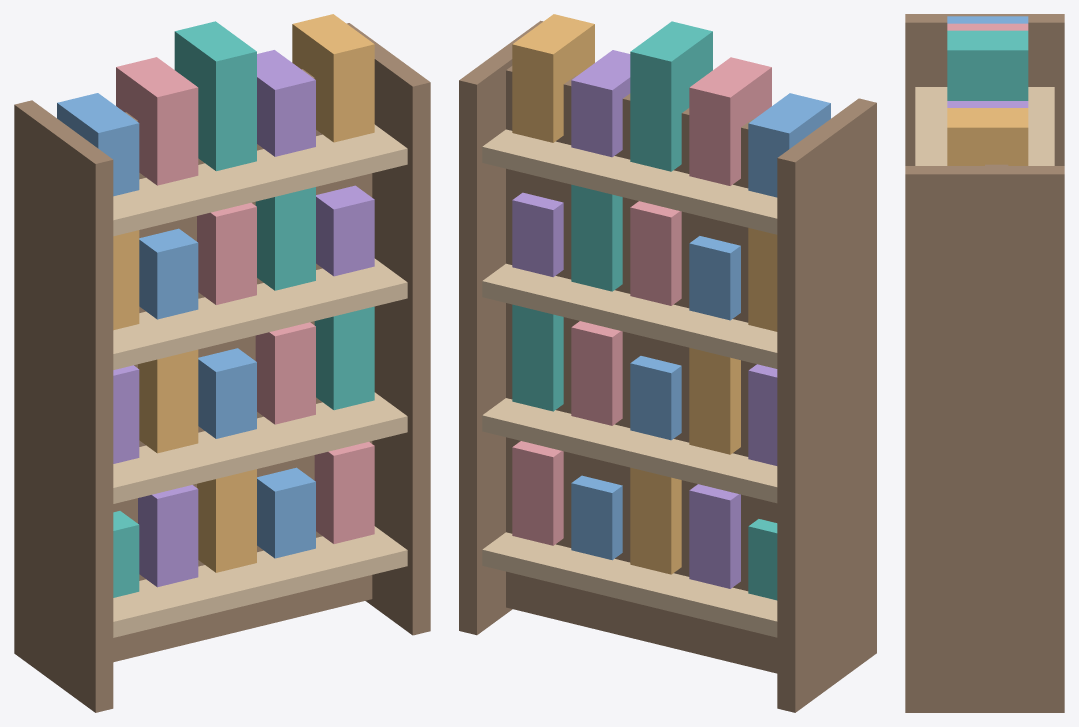
The model's file is bookshelf.glb.
3 views of the same model, side by side, from view 1: azimuth 30°, elevation 25°; view 2: azimuth 150°, elevation 25°; view 3: azimuth 270°, elevation 25° (orthographic). The views are drawn at different scales.
Visible parts, largest first — view 1: sideL, sideR, shelf_0, shelf_1, shelf_2, shelf_3, back, book_3_2, book_3_1, book_3_4, book_0_1, book_1_1 (+15 smaller); view 2: sideL, back, sideR, shelf_0, shelf_1, shelf_2, shelf_3, book_3_2, book_3_4, book_3_1, book_3_3, book_1_1 (+15 smaller); view 3: sideR, sideL, book_3_2, shelf_3, book_3_4, book_3_0, book_3_1, book_3_3.
Part boxes in pixels (left/top/right/bottom): sideL: left=14, top=100, right=113, bottom=712; sideR: left=346, top=23, right=430, bottom=635; shelf_0: left=113, top=526, right=407, bottom=637; shelf_1: left=113, top=392, right=407, bottom=503; shelf_2: left=113, top=258, right=407, bottom=369; shelf_3: left=113, top=124, right=407, bottom=236; back: left=113, top=69, right=372, bottom=662; book_3_2: left=174, top=21, right=256, bottom=171; book_3_1: left=116, top=57, right=198, bottom=185; book_3_4: left=292, top=14, right=374, bottom=142; book_0_1: left=138, top=485, right=198, bottom=587; book_1_1: left=138, top=349, right=198, bottom=453; sideL: left=777, top=98, right=876, bottom=712; back: left=506, top=66, right=777, bottom=673; sideR: left=459, top=20, right=543, bottom=635; shelf_0: left=482, top=532, right=777, bottom=637; shelf_1: left=482, top=398, right=777, bottom=503; shelf_2: left=482, top=263, right=777, bottom=368; shelf_3: left=482, top=129, right=777, bottom=234; book_3_2: left=630, top=21, right=712, bottom=171; book_3_4: left=512, top=14, right=594, bottom=142; book_3_1: left=689, top=57, right=771, bottom=185; book_3_3: left=571, top=50, right=630, bottom=157; book_1_1: left=689, top=347, right=740, bottom=454; sideR: left=905, top=166, right=1064, bottom=712; sideL: left=905, top=14, right=1064, bottom=165; book_3_2: left=947, top=30, right=1028, bottom=100; shelf_3: left=915, top=87, right=1054, bottom=165; book_3_4: left=947, top=108, right=1028, bottom=165; book_3_0: left=947, top=16, right=1028, bottom=23; book_3_1: left=947, top=23, right=1028, bottom=30; book_3_3: left=947, top=101, right=1028, bottom=107.
Size of the model in its own units: 1.31 by 2.25 by 0.55.
